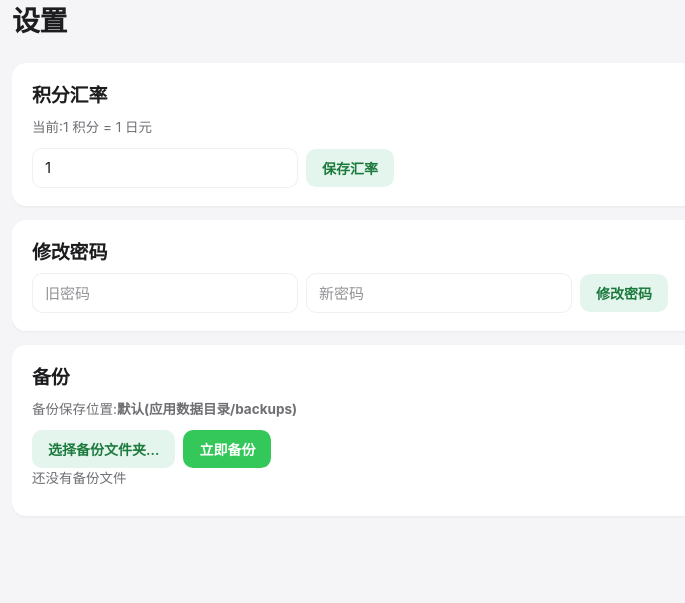
Test case: 系统设置组件 › 修改汇率提交 POST
Replace the text in the number field named "积分汇率(日元)" with "2.5" at [165, 168], box [32,148,298,188]
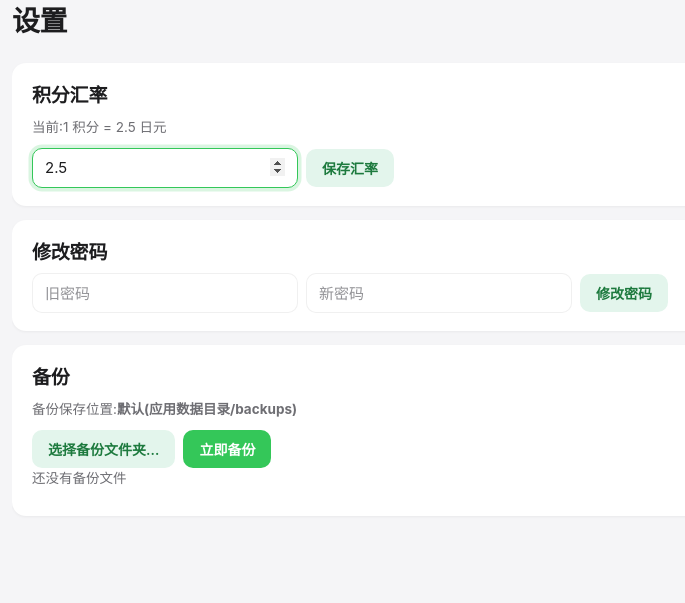
Click the button "保存汇率" at [350, 168], box [306,149,394,187]
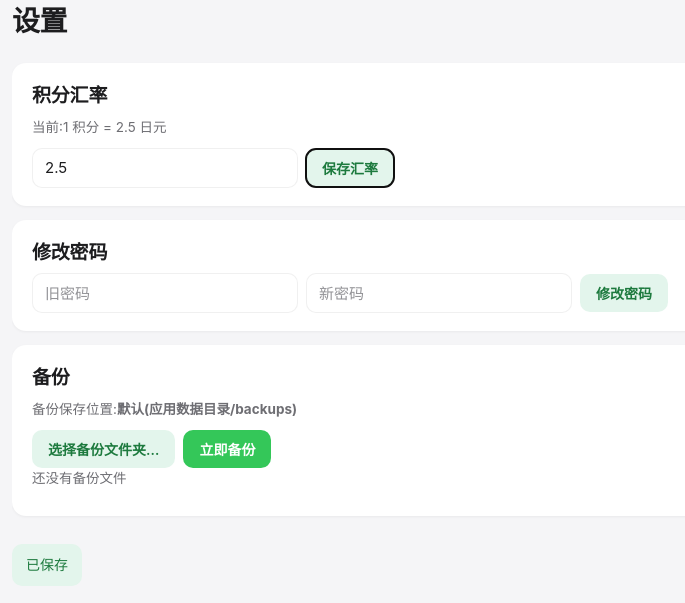
Expected: the text "已保存" is shown, [12,544,82,586]
